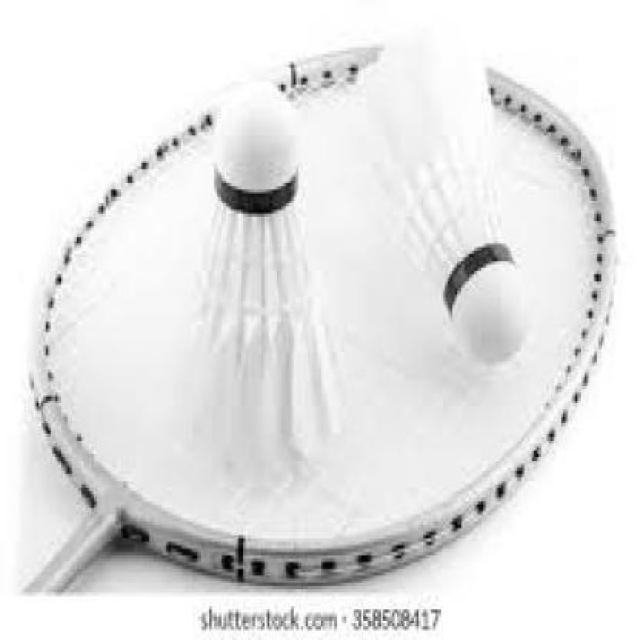Shuttlecock: (176, 80, 344, 485)
